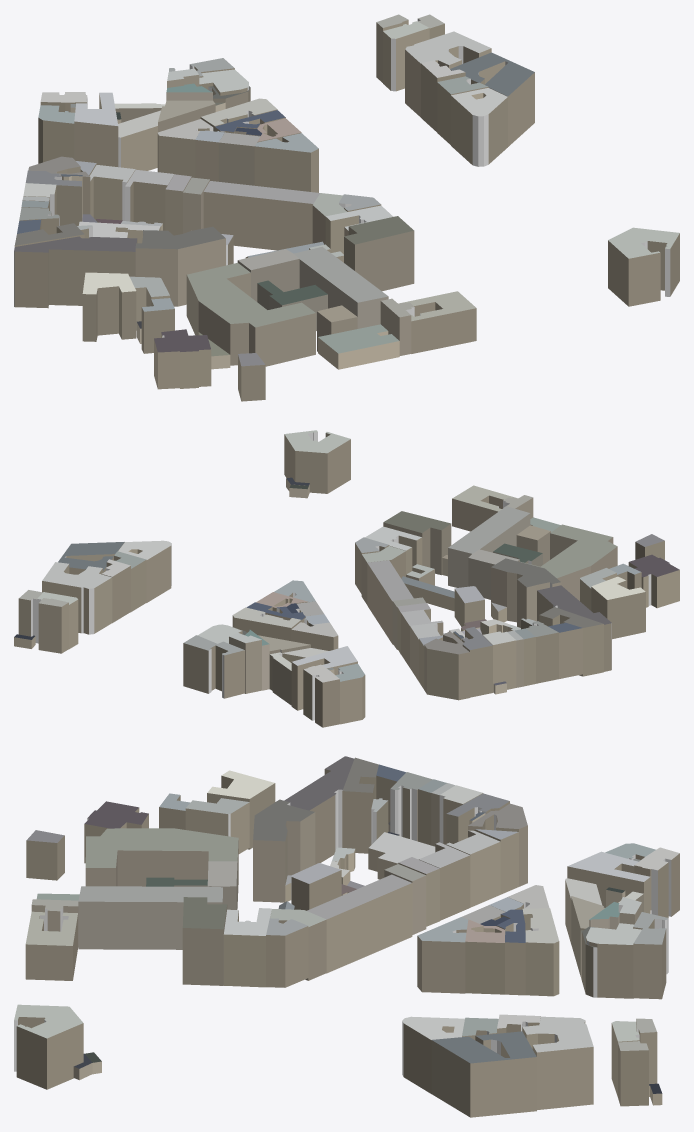
3 renders of one model, top to bottom at view 1: azimuth 30°, elevation 25°; view 2: azimuth 150°, elevation 25°; view 3: azimuth 270°, elevation 25°, orthographic. The views are drawn at different scales.
Parts seen in each view (by area): view 1: tuile; view 2: tuile; view 3: tuile.
Boxes of the visible parts, bbox=[...] form: tuile: bbox=[14, 14, 679, 401]; tuile: bbox=[14, 430, 679, 727]; tuile: bbox=[14, 756, 679, 1117].
Size of the model in its own units: 275 by 34.03 by 256.
